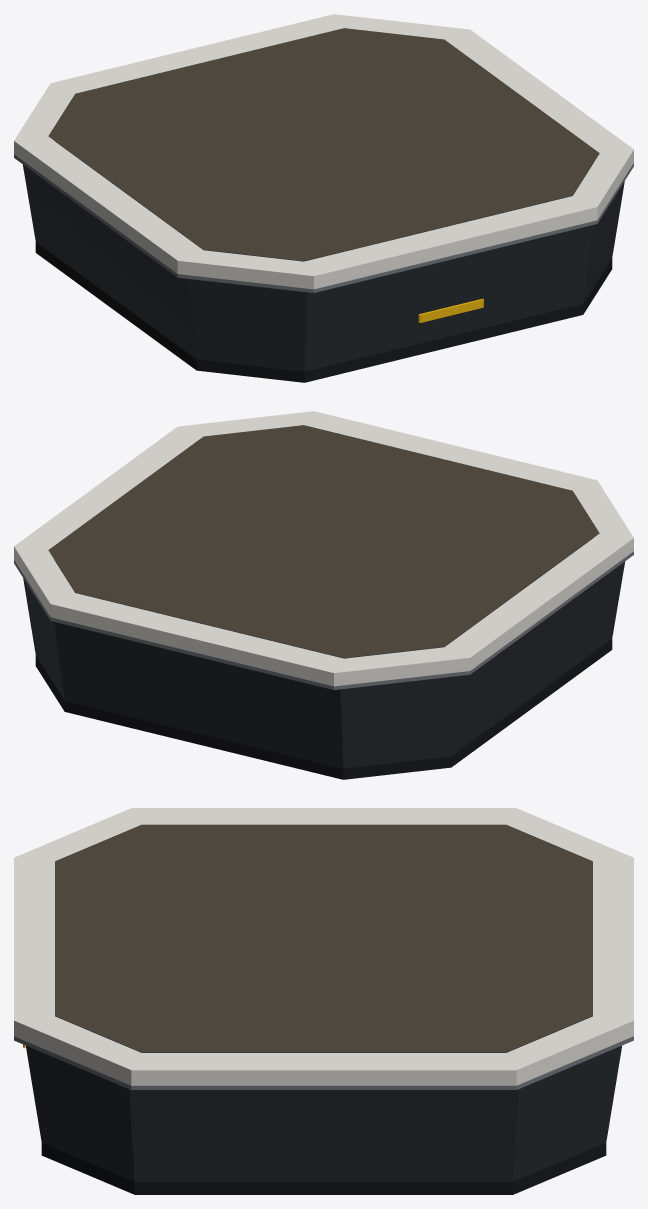
The model's file is PROP_PLANTER_03.glb.
3 renders of one model, top to bottom at view 1: azimuth 30°, elevation 25°; view 2: azimuth 150°, elevation 25°; view 3: azimuth 270°, elevation 25°, orthographic. The views are drawn at different scales.
Visible parts, largest first — view 1: CIVRUM_GAME_PROP_PLANTER_03; view 2: CIVRUM_GAME_PROP_PLANTER_03; view 3: CIVRUM_GAME_PROP_PLANTER_03.
Boxes of the visible parts, box(x1,y1,x2,y2) form: CIVRUM_GAME_PROP_PLANTER_03: box(14, 14, 633, 382); CIVRUM_GAME_PROP_PLANTER_03: box(14, 411, 633, 779); CIVRUM_GAME_PROP_PLANTER_03: box(14, 808, 633, 1194).
Bounding box in the file's own units: 2.8 × 0.683 × 2.8.
